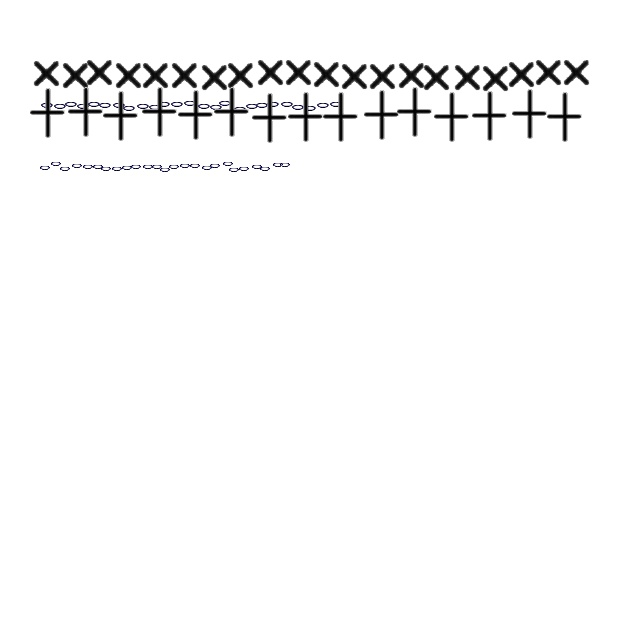chain: (40, 100, 54, 110), (53, 101, 67, 111), (64, 99, 78, 109), (76, 101, 90, 111), (87, 99, 101, 109), (98, 100, 112, 110), (112, 100, 126, 110), (122, 103, 136, 113), (136, 101, 150, 111), (148, 102, 162, 112), (157, 99, 171, 109), (170, 99, 184, 109), (183, 98, 197, 108), (197, 101, 211, 111), (209, 102, 223, 112), (218, 98, 232, 108), (233, 104, 247, 114), (245, 101, 259, 111), (255, 100, 269, 110), (266, 99, 280, 109), (280, 99, 294, 109), (291, 102, 305, 112), (303, 103, 317, 113), (316, 100, 330, 110), (329, 99, 343, 109), (59, 164, 71, 174), (82, 162, 94, 172), (92, 162, 104, 172), (100, 164, 112, 174), (111, 164, 123, 174), (130, 162, 142, 172), (142, 162, 154, 172), (151, 162, 163, 172), (168, 162, 180, 172), (238, 164, 250, 174), (251, 162, 263, 172), (259, 164, 271, 174), (272, 160, 284, 170), (279, 160, 291, 170), (39, 164, 51, 172), (50, 160, 62, 168), (71, 162, 83, 170), (121, 164, 133, 172), (159, 166, 171, 174), (179, 162, 191, 170), (189, 162, 201, 170), (201, 164, 213, 172), (209, 162, 221, 170), (222, 160, 234, 168), (228, 166, 240, 174)
double: (320, 92, 360, 144), (544, 92, 584, 144), (100, 92, 140, 142), (394, 88, 434, 138), (28, 88, 66, 140), (176, 90, 214, 142), (286, 92, 324, 144), (362, 90, 400, 142), (432, 92, 470, 144), (66, 88, 104, 138), (140, 88, 178, 138), (212, 88, 250, 138), (250, 94, 288, 144), (470, 92, 508, 142), (510, 90, 548, 140), (60, 58, 92, 92), (140, 58, 172, 92), (396, 58, 428, 92), (452, 60, 484, 94), (84, 56, 116, 88), (480, 62, 512, 94), (506, 58, 538, 90), (32, 56, 62, 90), (114, 58, 144, 92), (170, 58, 200, 92), (200, 60, 230, 94), (226, 58, 256, 92), (422, 60, 452, 94), (256, 56, 286, 88), (284, 56, 314, 88), (312, 58, 342, 90), (340, 60, 370, 92), (368, 60, 398, 92), (534, 56, 564, 88), (562, 56, 592, 88)
